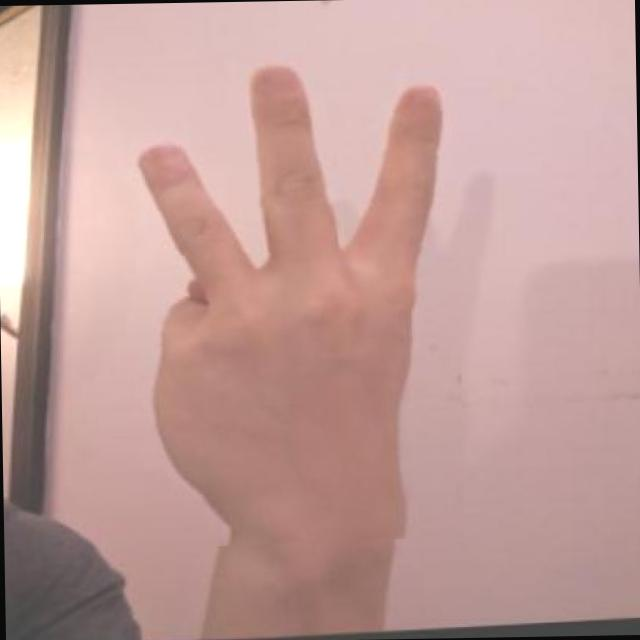W: (108, 48, 466, 550)
